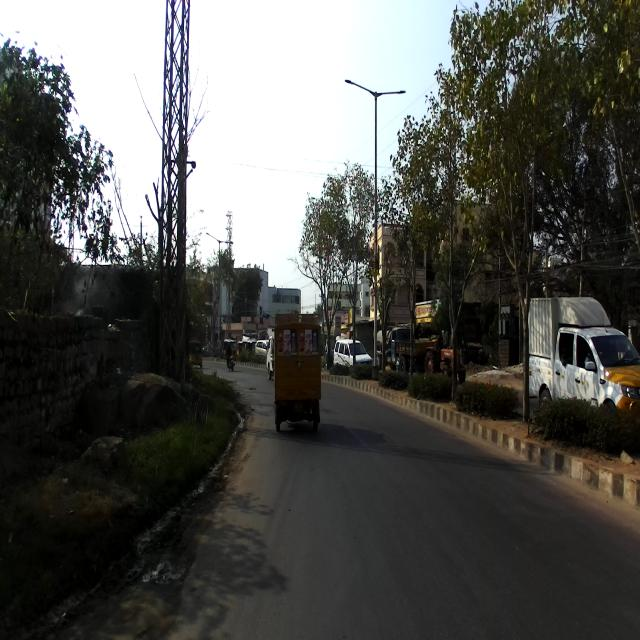auto ahead at: (270, 301, 326, 454)
